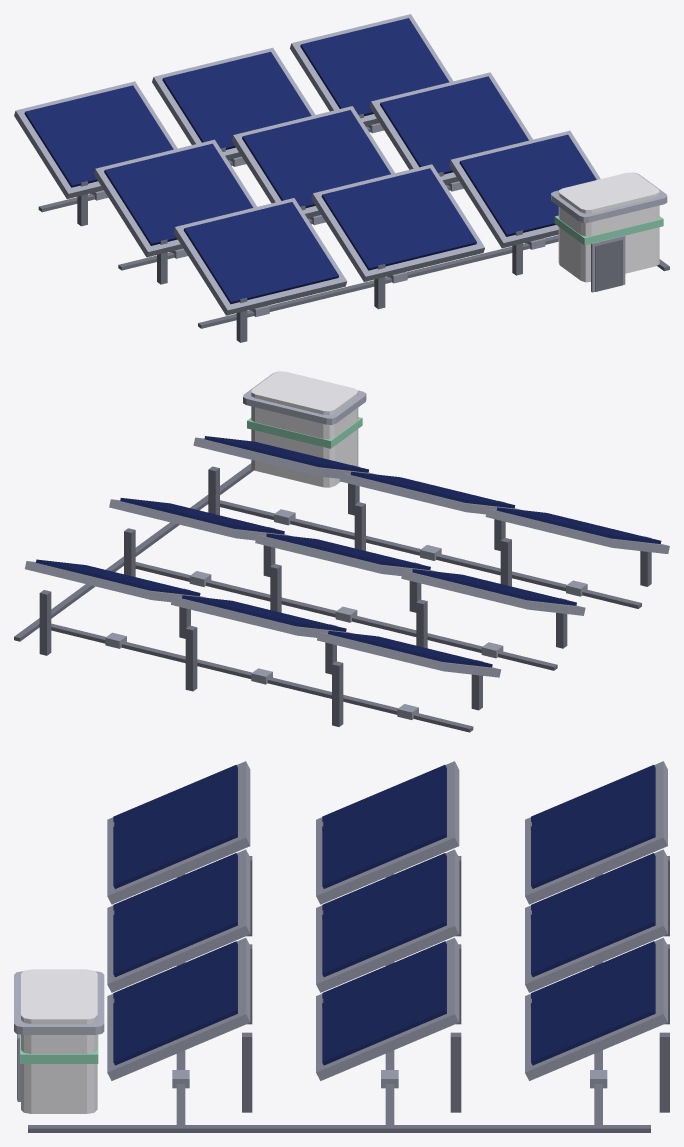
File: solar-2x2-t1.glb
The picture shows the model from 3 angles, top to bottom: view 1: azimuth 30°, elevation 25°; view 2: azimuth 150°, elevation 25°; view 3: azimuth 270°, elevation 25°; orthographic projection. The views are drawn at different scales.
Visible parts, largest first — view 1: solar-2x2-t1; view 2: solar-2x2-t1; view 3: solar-2x2-t1.
Boxes of the visible parts, bbox=[...] form: solar-2x2-t1: bbox=[14, 14, 669, 342]; solar-2x2-t1: bbox=[14, 371, 669, 732]; solar-2x2-t1: bbox=[14, 761, 669, 1132].
Bounding box in the file's own units: 1.79 × 0.3435 × 1.88.
Materials: 1 (1 with a texture image).
